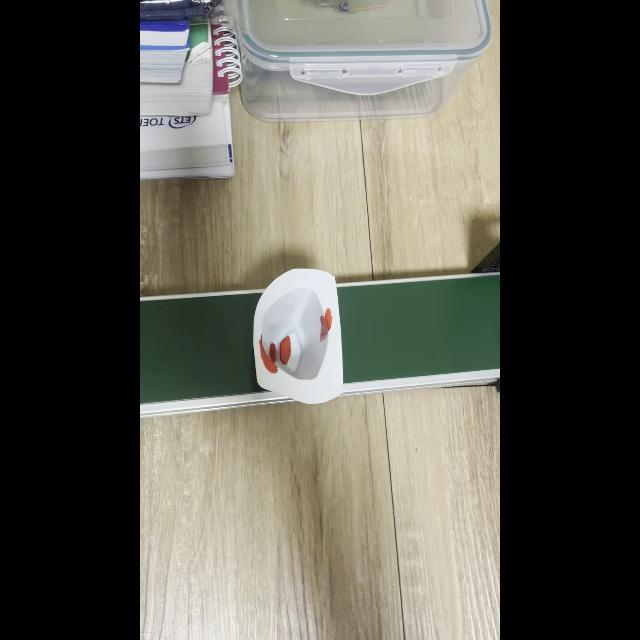dirty: (248, 294, 342, 390)
